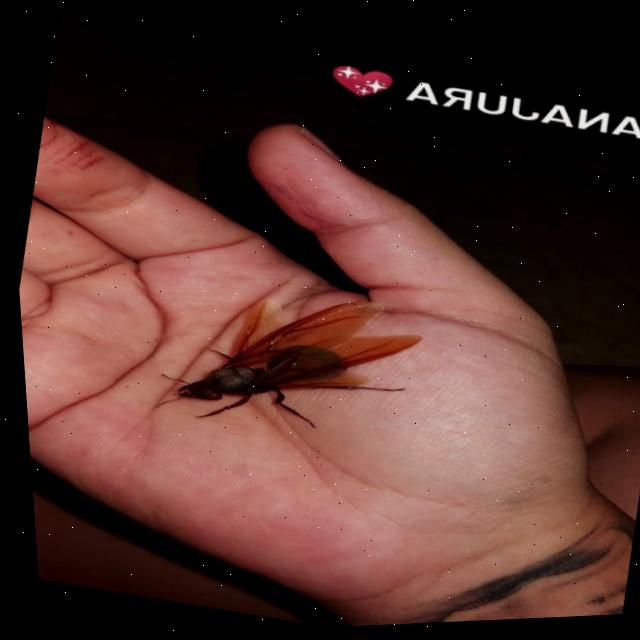Alive-Female-Alate: (140, 261, 429, 465)
